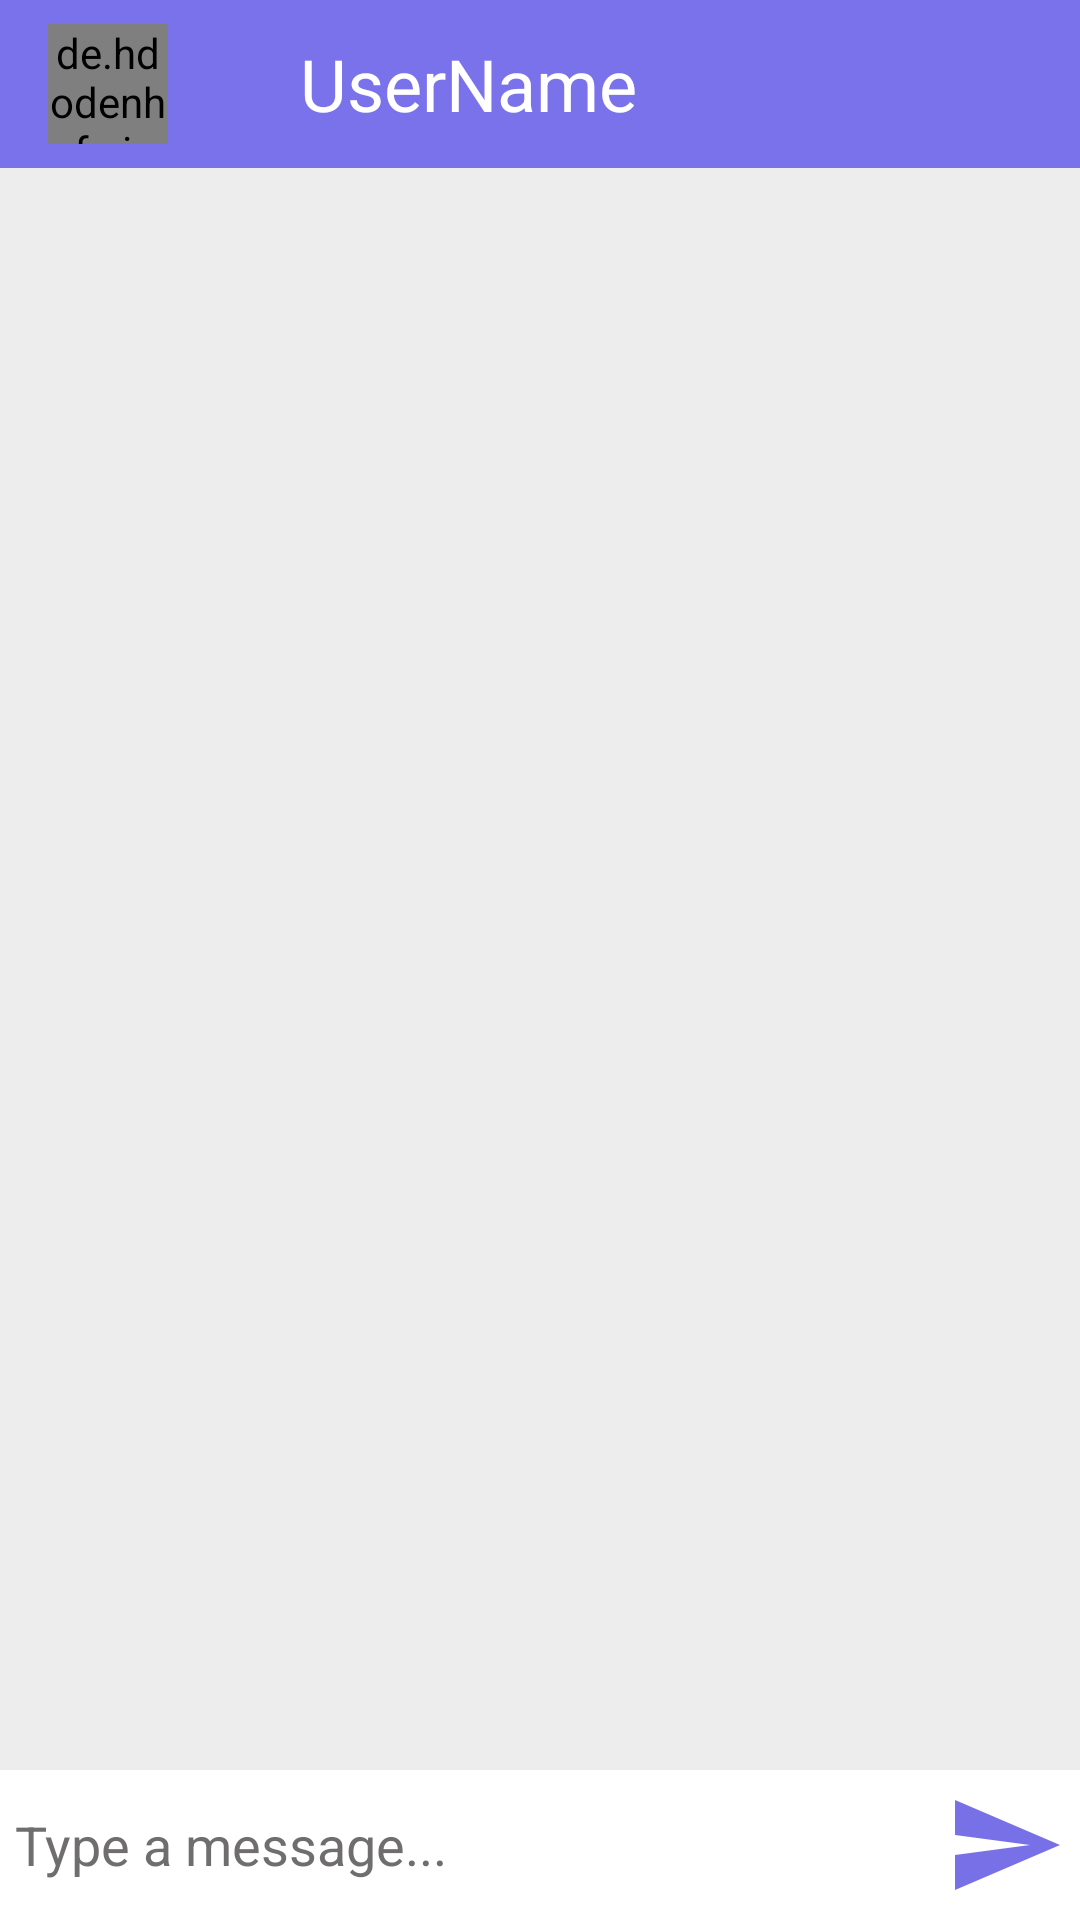

Named icons in this screenshot (1080x1920) and their bounding boxes, (x1, y1, x2, y2):
send: (955, 1800, 1060, 1890)
